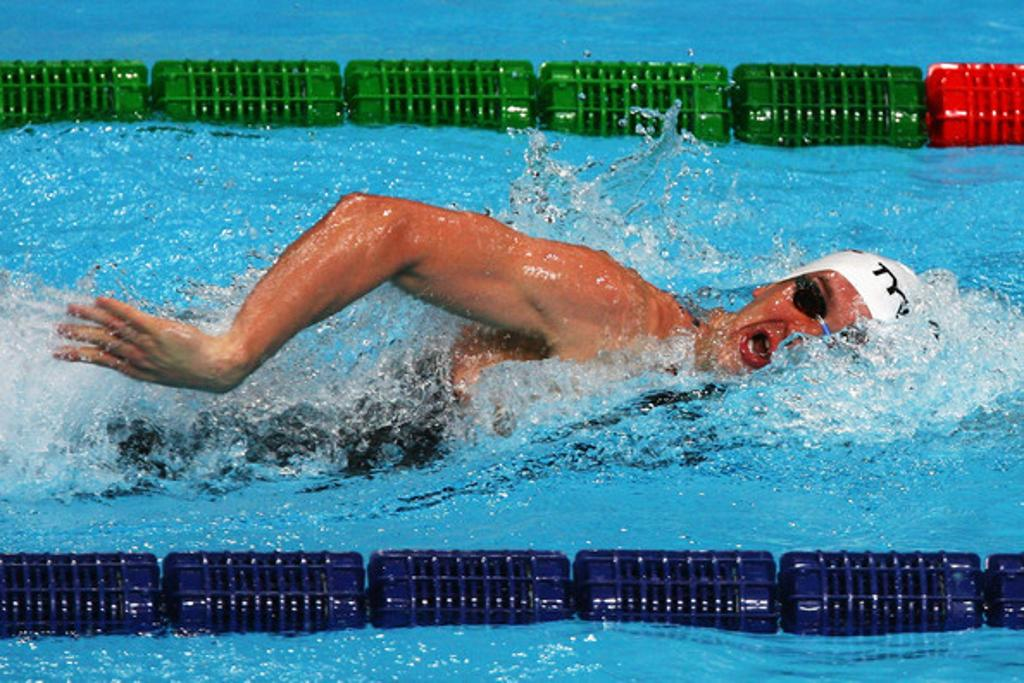face: (724, 276, 872, 388)
